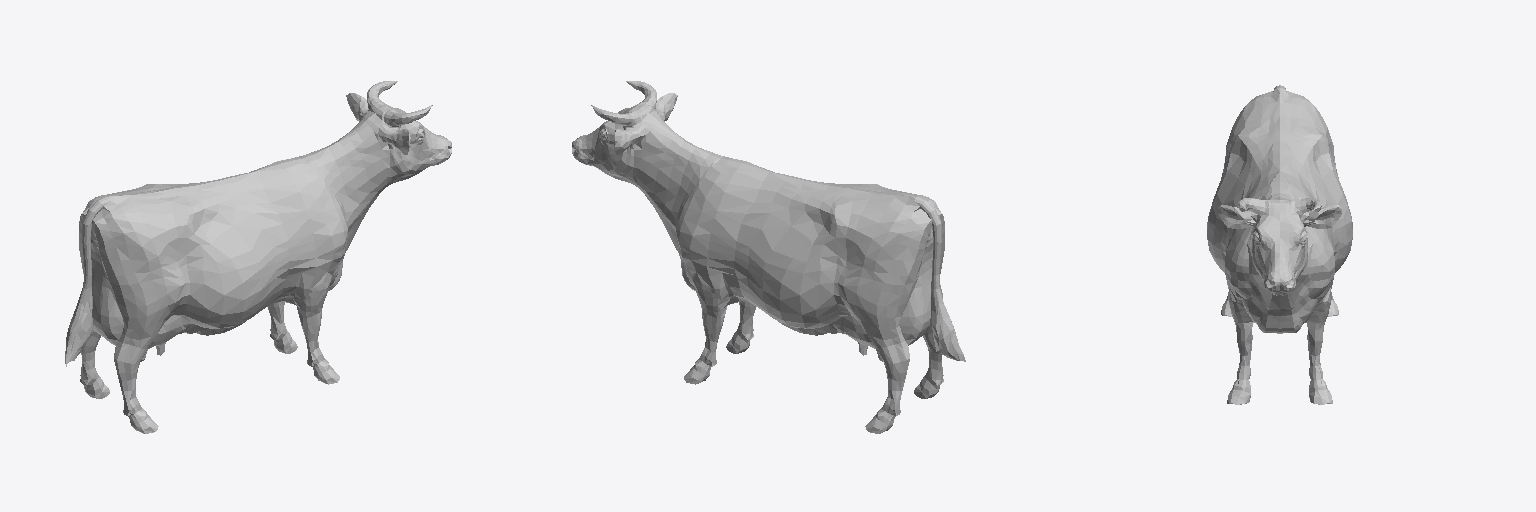
Rendered from cow.obj.
The picture shows the model from 3 angles: view 1: azimuth 30°, elevation 25°; view 2: azimuth 150°, elevation 25°; view 3: azimuth 270°, elevation 25°; orthographic projection.
Bounding box in the file's own units: 2.42 × 1.48 × 0.7897.